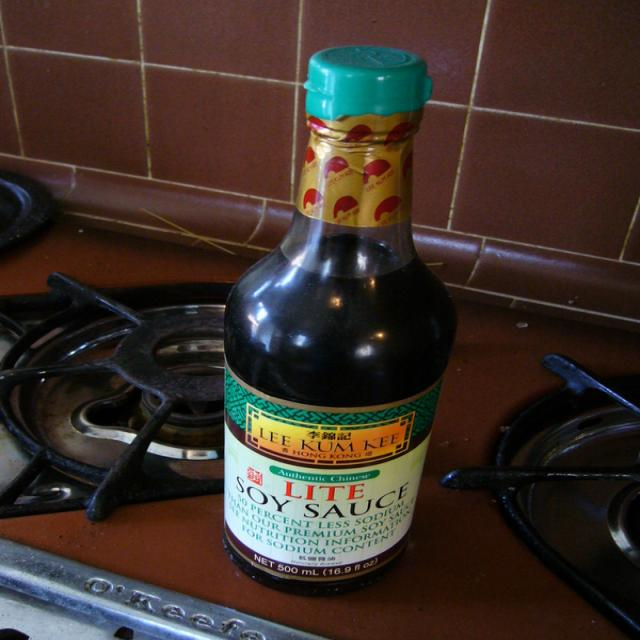bottle: (224, 48, 456, 594)
